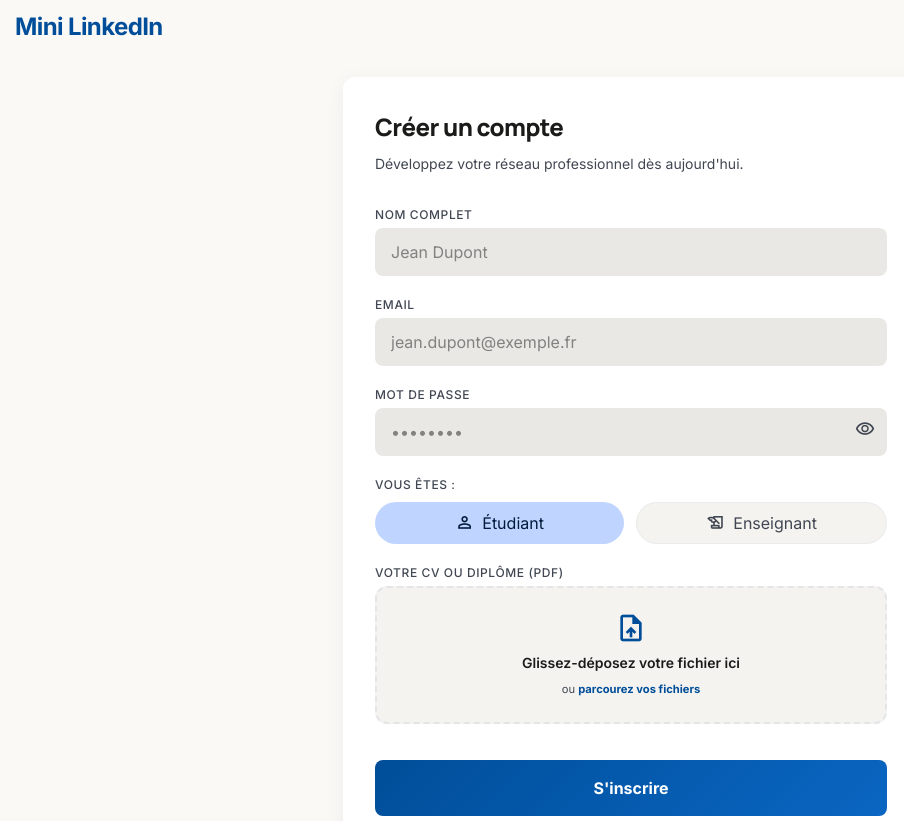
Test: Register › affiche un message de succès après inscription
Type "Test User" into the field with placeholder "Jean Dupont" at (631, 252), box [375,228,887,276]
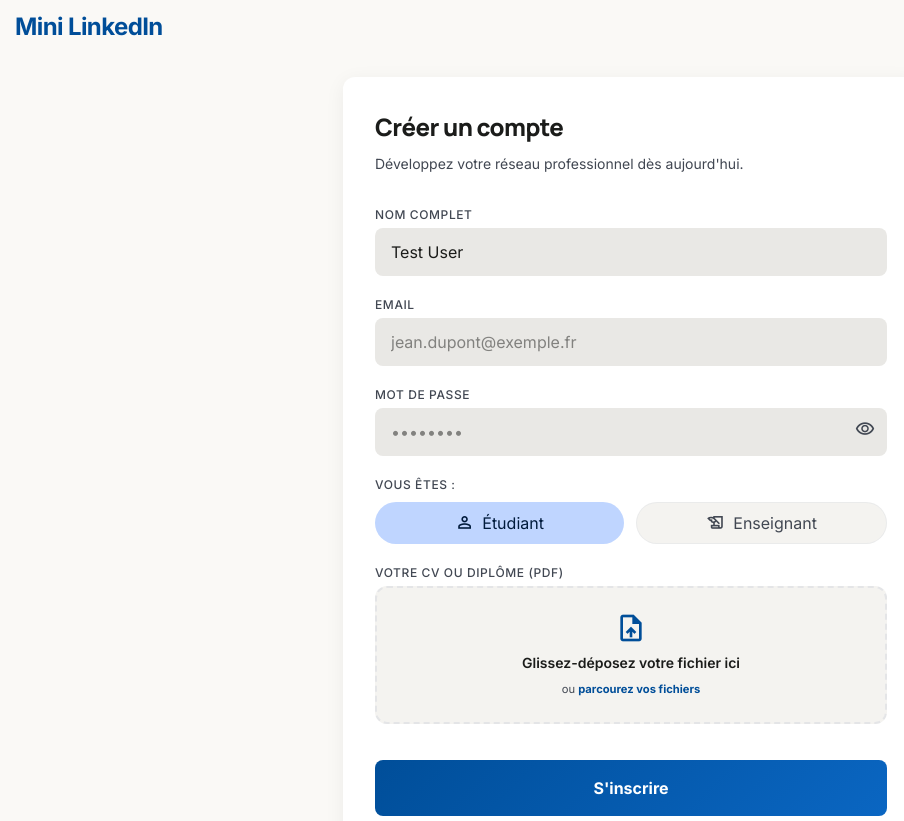
Type "test@test.com" into the field with placeholder "jean.dupont@exemple.fr" at (631, 342), box [375,318,887,366]
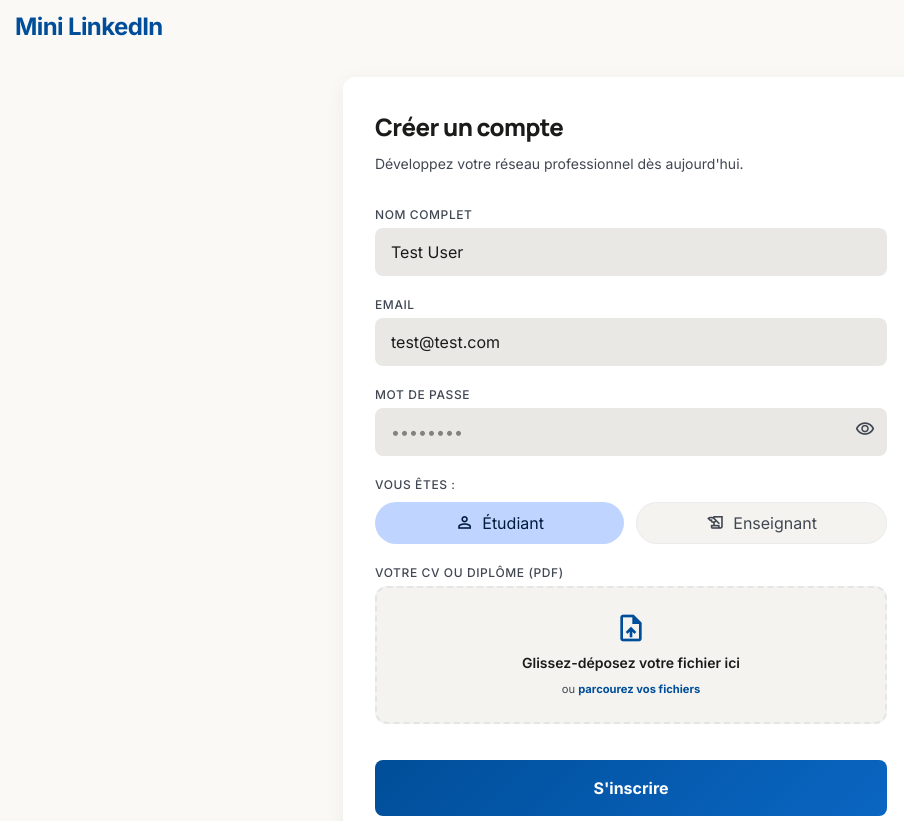
Type "password123" into the password field with placeholder "••••••••" at (631, 432), box [375,408,887,456]
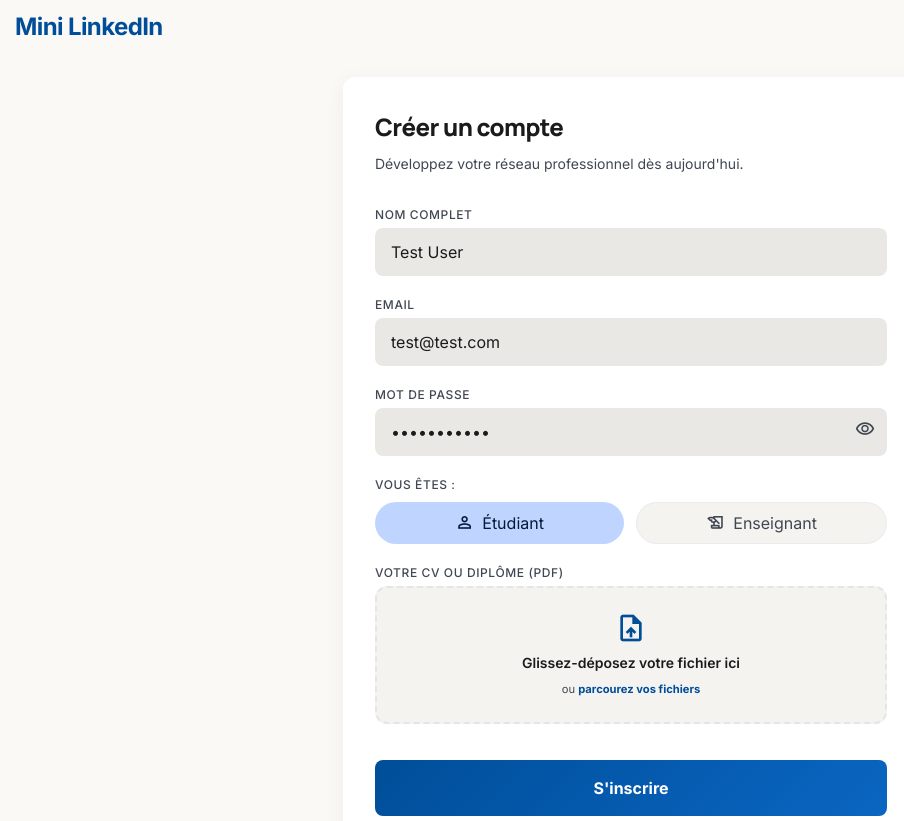
Click the button "S'inscrire" at (631, 788), box [375,760,887,816]
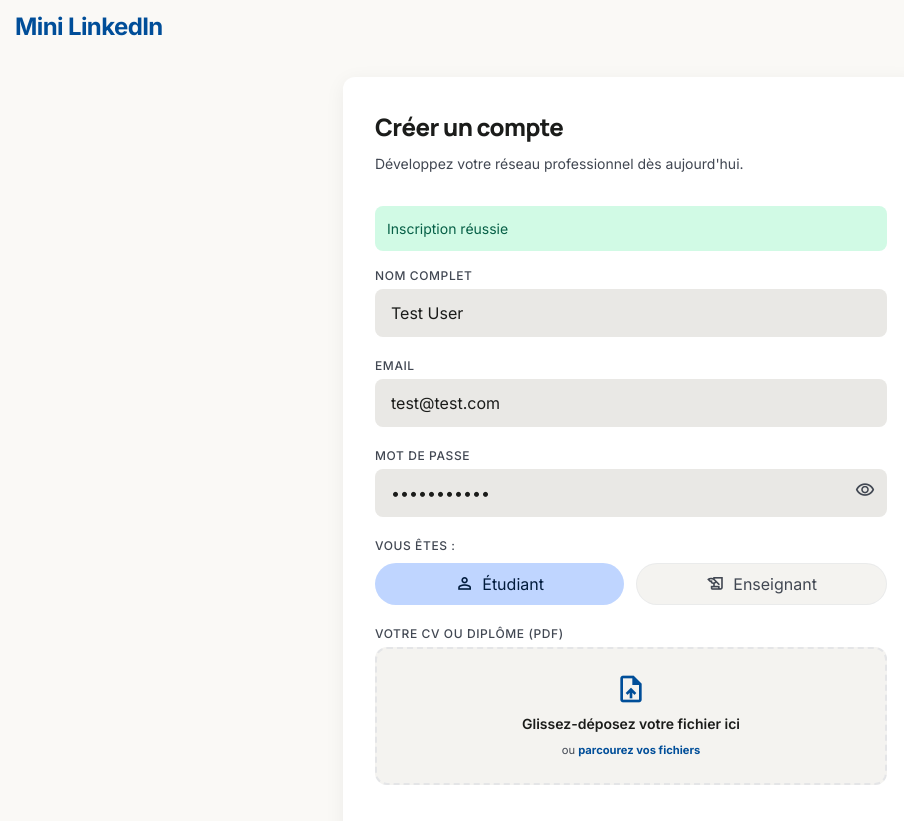
Expected: the text "Inscription réussie" is shown, [375,206,887,251]
